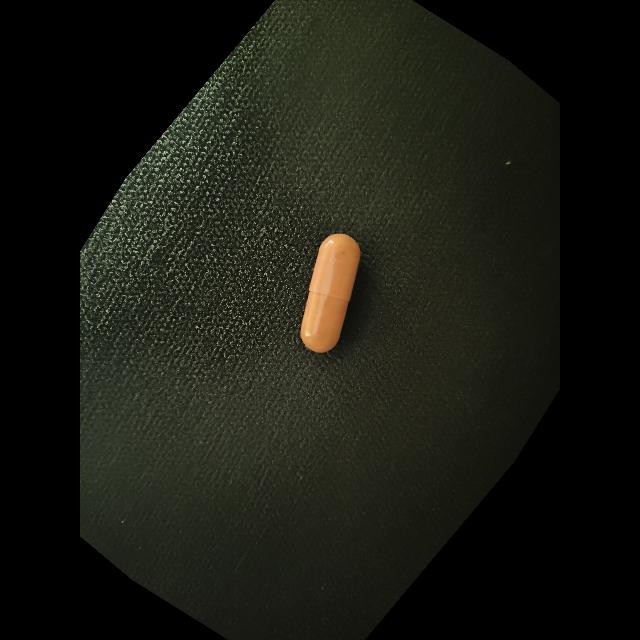Intact Capsule: (300, 234, 361, 352)
